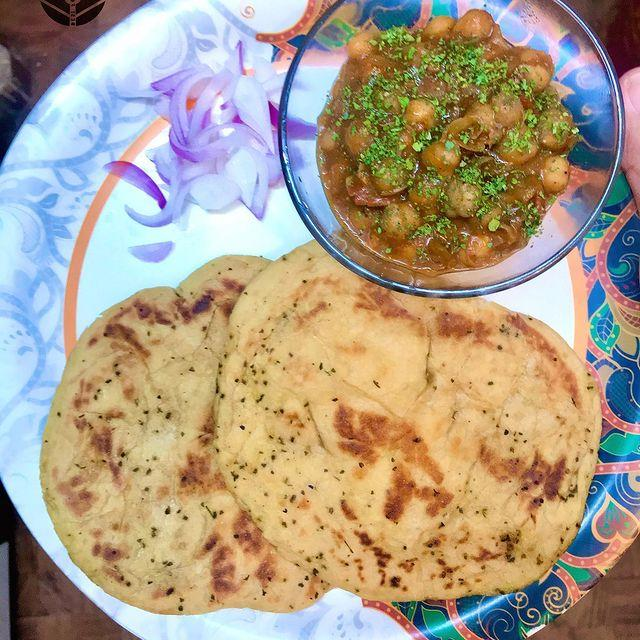Chole: (324, 8, 577, 266)
